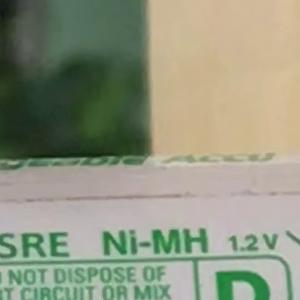keyword: (94, 220, 216, 264)
